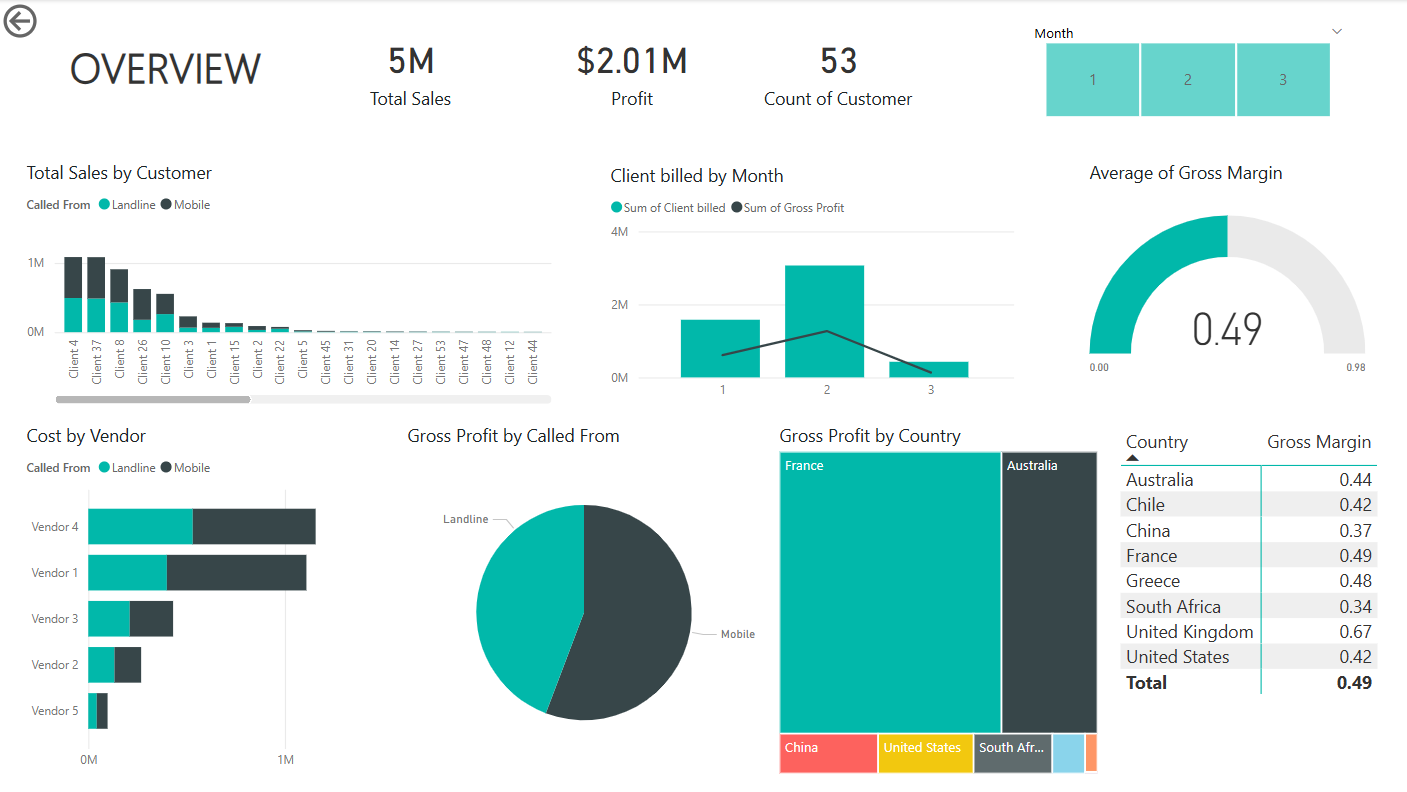

The dashboard page shown, as its layout file describes it:
{"tool":"powerbi","page":{"name":"Page 1","canvas":[1280,720],"ordinal":0},"visuals":[{"type":"card","fields":{"Values":["Sum(Data.Gross Profit)"]},"box":[466.5,12.9,217.6,101.9],"z":0},{"type":"actionButton","box":[0,0,100,40],"z":1000},{"type":"gauge","fields":{"Y":["Avg(Data.Gross Margin)"]},"box":[984.8,146,260.3,225.8],"z":2000},{"type":"treemap","title":"Gross Profit by Country","fields":{"Group":["Data.Rates - Clients.Country"],"Values":["Sum(Data.Gross Profit)"]},"box":[703.7,384.5,298.3,322.8],"z":3000},{"type":"columnChart","title":"Total Sales by Customer","fields":{"Category":["Data.Customer"],"Y":["Sum(Data.Client billed)"],"Series":["Data.Called From"]},"box":[20.9,146,486,225.8],"z":4000},{"type":"textbox","box":[49.6,31.2,203.8,66.1],"z":5000},{"type":"barChart","title":"Cost by Vendor","fields":{"Category":["Data.Rates - Carrier.Vendor"],"Y":["Sum(Data.Vendor billed)"],"Series":["Data.Called From"]},"box":[20.9,384.5,345.5,322.8],"z":6000},{"type":"slicer","fields":{"Values":["Data.Month"]},"box":[926.5,17.4,304.8,93.7],"z":7000},{"type":"pivotTable","fields":{"Rows":["Data.Rates - Clients.Country"],"Values":["Avg(Data.Gross Margin)"]},"box":[1012.9,384.5,253.9,292.9],"z":8000},{"type":"lineStackedColumnComboChart","title":"Client billed by Month","fields":{"Category":["Data.Month"],"Y":["Sum(Data.Client billed)"],"Y2":["Sum(Data.Gross Profit)"]},"box":[550.4,148.7,376.3,223.1],"z":8001},{"type":"card","fields":{"Values":["Sum(Data.Client billed)"]},"box":[281,12.9,185.5,101.9],"z":8002},{"type":"card","fields":{"Values":["Count(Data.Customer)"]},"box":[684.1,12.9,156.1,101.9],"z":8003},{"type":"pieChart","title":"Gross Profit by Called From","fields":{"Category":["Data.Called From"],"Y":["Sum(Data.Gross Profit)"]},"box":[366.3,384.5,330.1,322.8],"z":8004}]}

Visuals, with their boxes in screenshot pixels (x1, y1, x2, y2), scaled from the page's 1280x720 canvas onto the 1407x792 screenshot:
card - Sum(Data.Gross Profit): <region>513, 14, 752, 126</region>
actionButton: <region>0, 0, 110, 44</region>
gauge - Avg(Data.Gross Margin): <region>1083, 161, 1369, 409</region>
"Gross Profit by Country" treemap: <region>774, 423, 1101, 778</region>
"Total Sales by Customer" columnChart: <region>23, 161, 557, 409</region>
textbox: <region>55, 34, 279, 107</region>
"Cost by Vendor" barChart: <region>23, 423, 403, 778</region>
slicer - Data.Month: <region>1018, 19, 1353, 122</region>
pivotTable - Data.Rates - Clients.Country x Avg(Data.Gross Margin): <region>1113, 423, 1392, 745</region>
"Client billed by Month" lineStackedColumnComboChart: <region>605, 164, 1019, 409</region>
card - Sum(Data.Client billed): <region>309, 14, 513, 126</region>
card - Count(Data.Customer): <region>752, 14, 924, 126</region>
"Gross Profit by Called From" pieChart: <region>403, 423, 765, 778</region>
